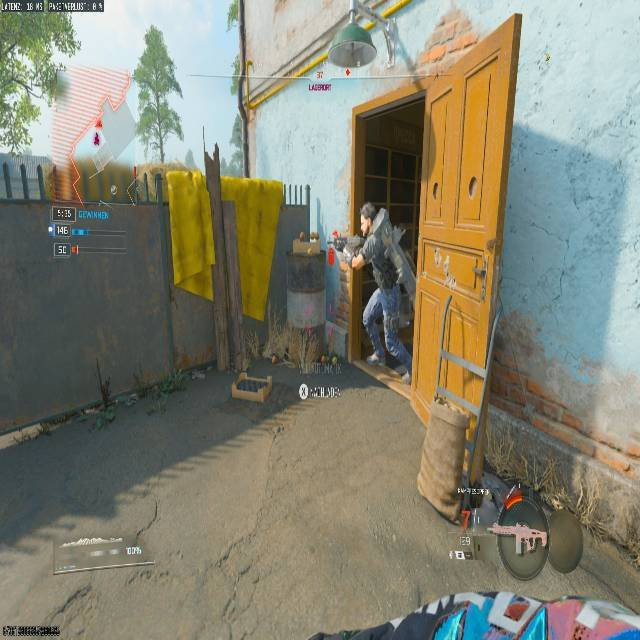head: (359, 202, 376, 234)
player: (337, 202, 411, 384)
